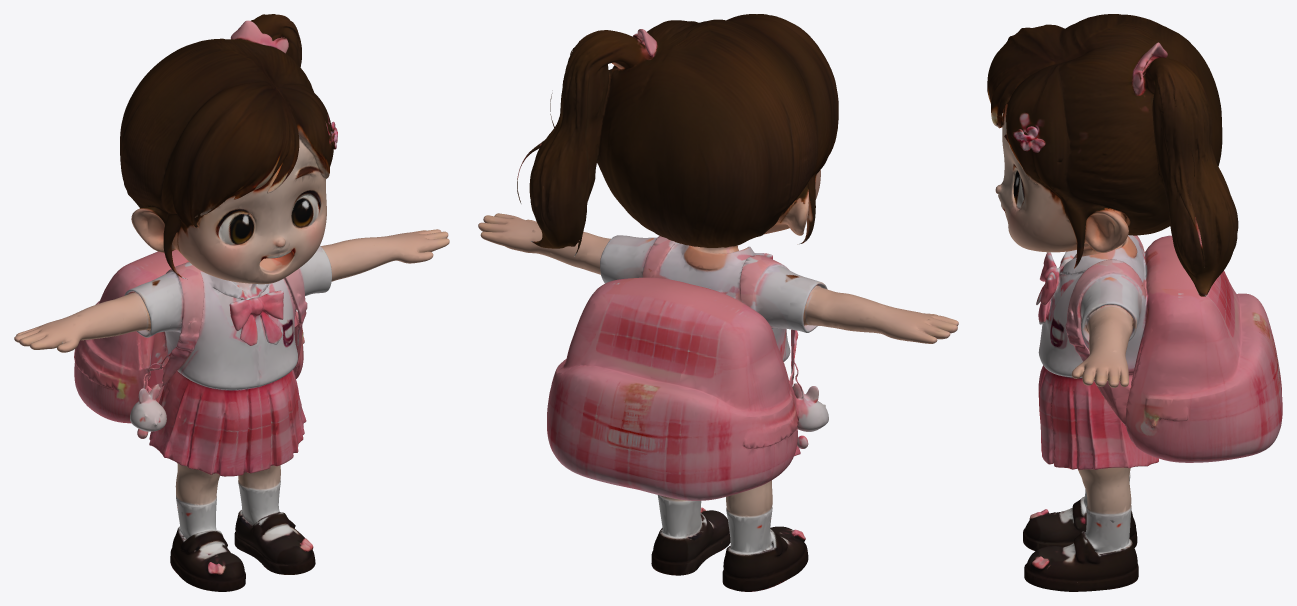
The model's file is animasi jalan.fbx.
3 renders of one model, left to right at view 1: azimuth 30°, elevation 25°; view 2: azimuth 150°, elevation 25°; view 3: azimuth 270°, elevation 25°, orthographic. The views are drawn at different scales.
Parts seen in each view (by area): view 1: tripo_node_f1338254; view 2: tripo_node_f1338254; view 3: tripo_node_f1338254.
Boxes of the visible parts, <box> form: tripo_node_f1338254: <box>14,14,449,591</box>; tripo_node_f1338254: <box>478,14,958,591</box>; tripo_node_f1338254: <box>987,14,1282,591</box>.
Bounding box in the file's own units: 89.1 × 49.55 × 100.
Materials: 1 (1 with a texture image).
